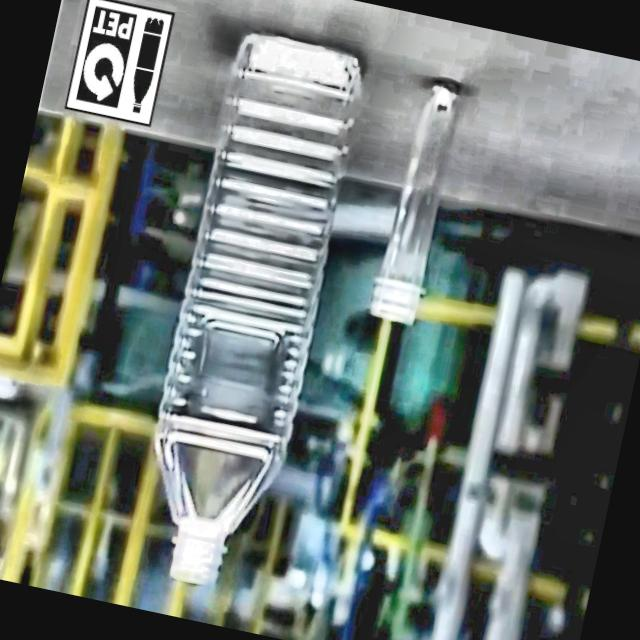plastic bottle: (154, 33, 361, 584)
